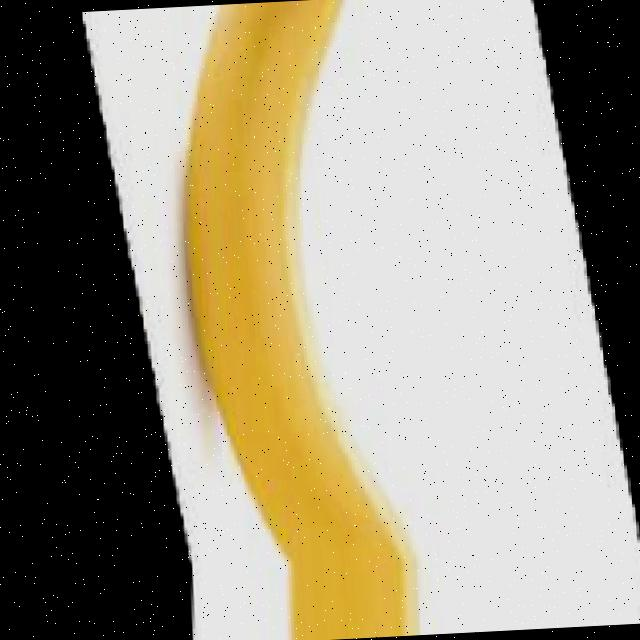banana: (143, 5, 504, 572)
